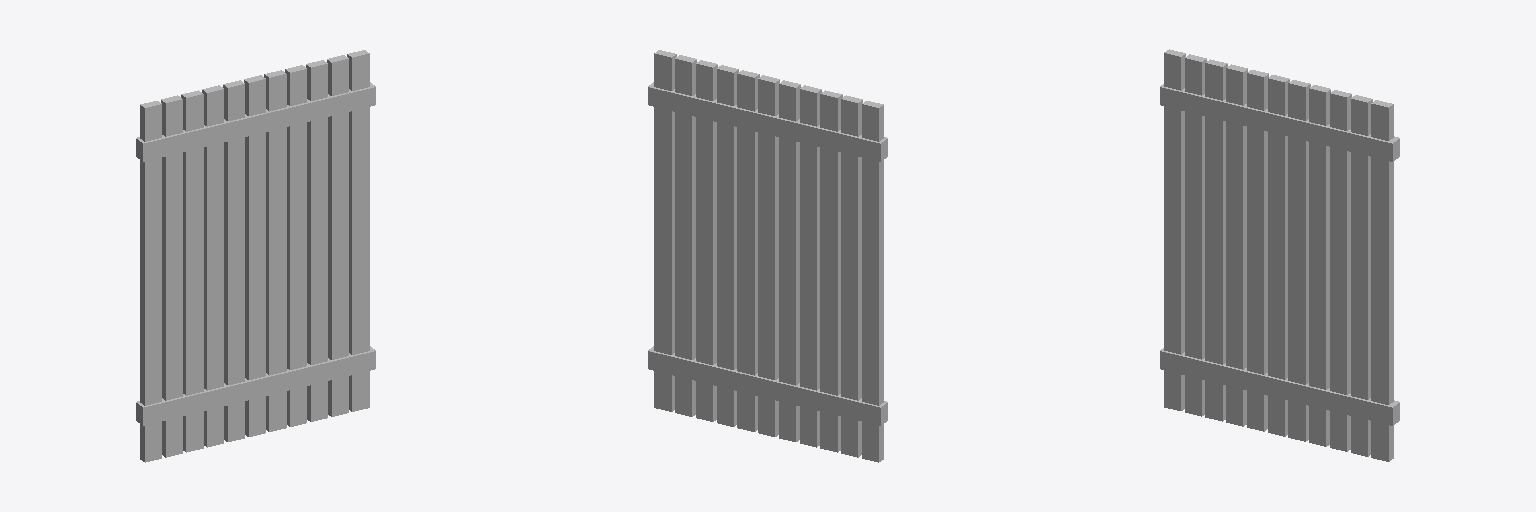
The model's file is gate_02.obj.
3 renders of one model, left to right at view 1: azimuth 30°, elevation 25°; view 2: azimuth 150°, elevation 25°; view 3: azimuth 330°, elevation 25°, orthographic.
Parts seen in each view (by area): view 1: Cube.006; view 2: Cube.006; view 3: Cube.006.
Part boxes in pixels (x1,y1,x2,y2): Cube.006: (136,50,375,462); Cube.006: (648,50,887,462); Cube.006: (1160,49,1399,461).
Size of the model in its own units: 2.39 by 3.48 by 0.1403.